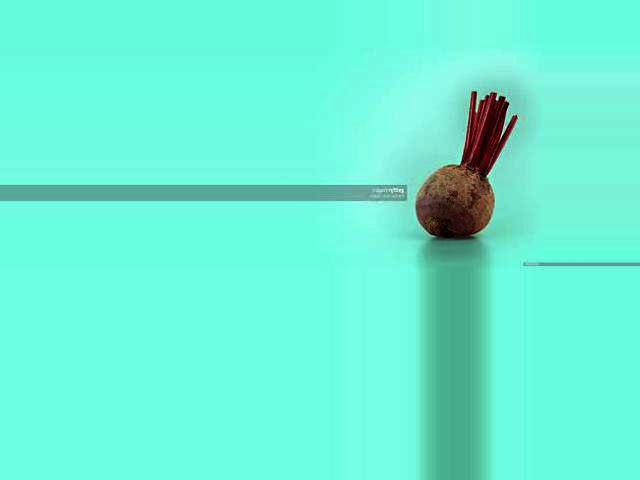beet: (415, 91, 516, 238)
